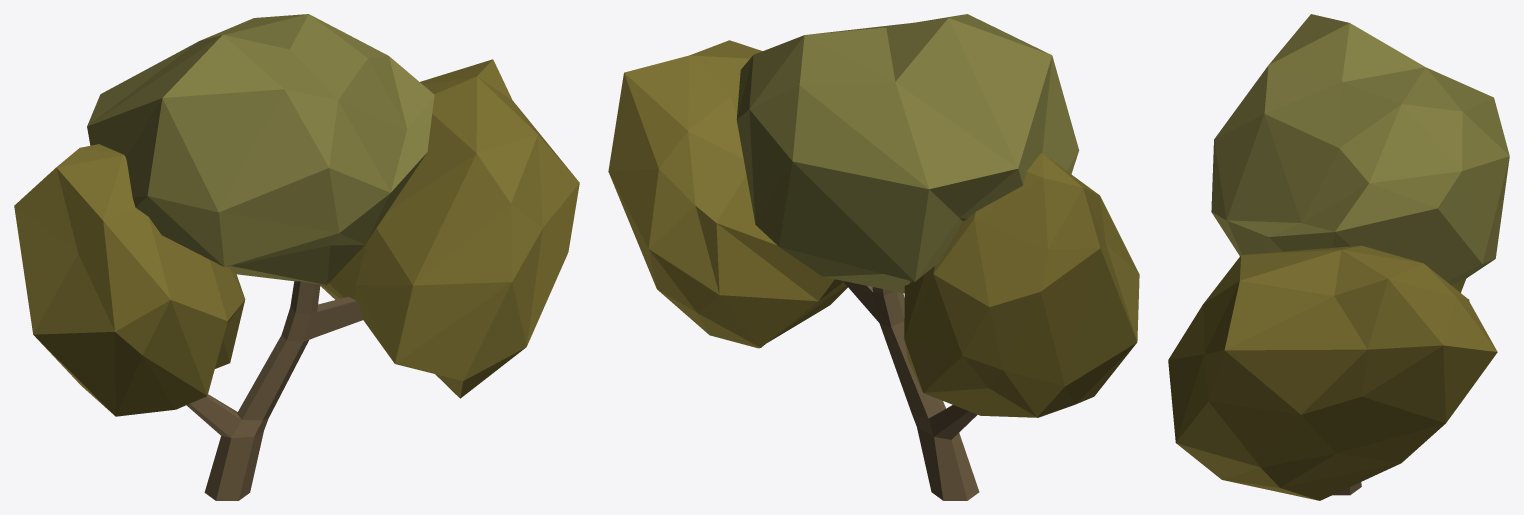
File: enchantedforest_bush_5.fbx
3 renders of one model, left to right at view 1: azimuth 30°, elevation 25°; view 2: azimuth 150°, elevation 25°; view 3: azimuth 270°, elevation 25°, orthographic. The views are drawn at different scales.
Visible parts, largest first — view 1: Cylinder.019; view 2: Cylinder.019; view 3: Cylinder.019.
Part boxes in pixels (<box>): Cylinder.019: <box>14,14,579,500</box>; Cylinder.019: <box>608,14,1139,500</box>; Cylinder.019: <box>1168,14,1509,500</box>.
Size of the model in its own units: 272 by 241 by 161.
